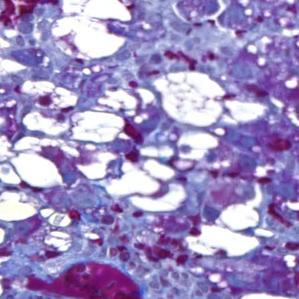ballooning: (49, 3, 135, 63), (150, 69, 229, 131)
